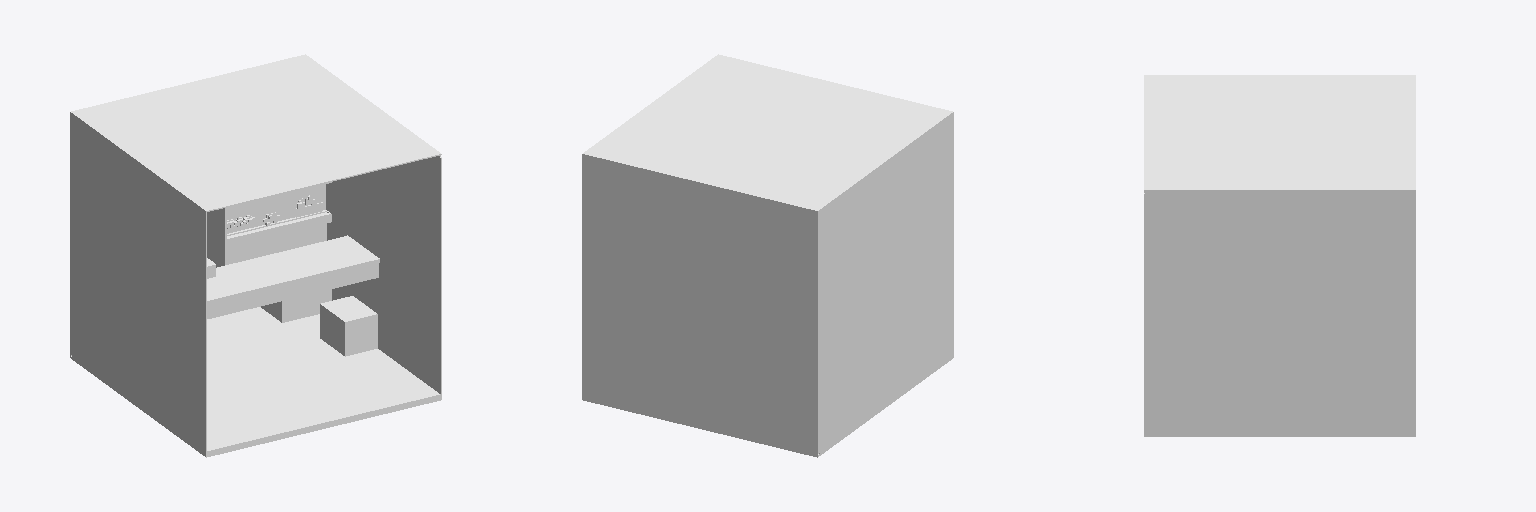
Rendered from heya.obj.
3 views of the same model, side by side, from view 1: azimuth 30°, elevation 25°; view 2: azimuth 150°, elevation 25°; view 3: azimuth 270°, elevation 25° (orthographic).
Parts seen in each view (by area): view 1: object 1; view 2: object 1; view 3: object 1.
Boxes of the visible parts, x1=… form: object 1: x1=70, y1=54, x2=441, y2=457; object 1: x1=582, y1=54, x2=953, y2=457; object 1: x1=1144, y1=75, x2=1415, y2=436.
Size of the model in its own units: 20 by 20 by 20.